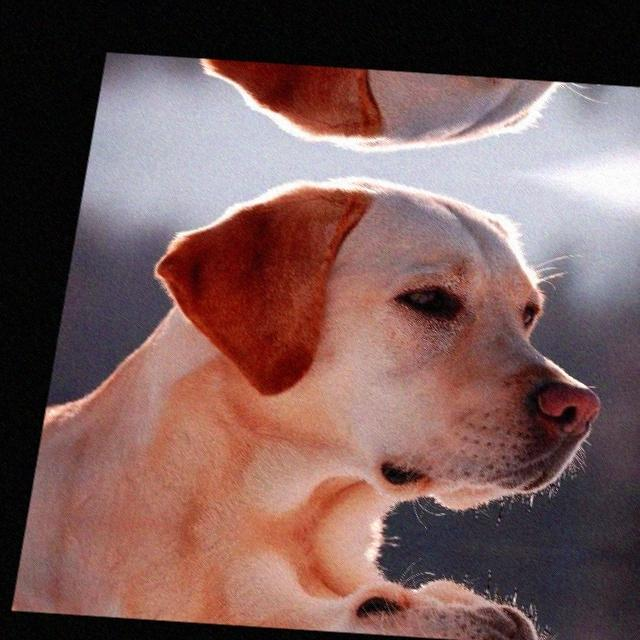dog: (112, 158, 640, 532), (173, 57, 640, 174), (92, 544, 579, 640)
